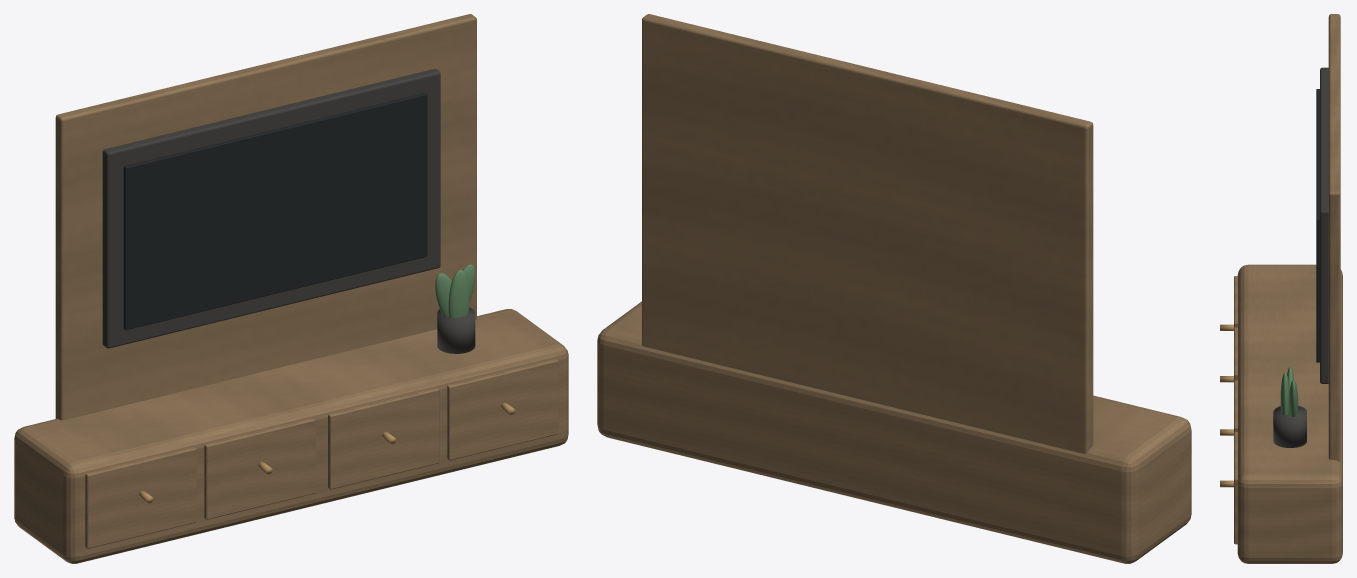
The model's file is tv-console.glb.
3 views of the same model, side by side, from view 1: azimuth 30°, elevation 25°; view 2: azimuth 150°, elevation 25°; view 3: azimuth 270°, elevation 25° (orthographic). The views are drawn at different scales.
Visible parts, largest first — view 1: ACCENT oak media panel, ACCENT television inset, CANONICAL case, ACCENT television, CANONICAL front 2, CANONICAL front 1, CANONICAL front 3, CANONICAL front 4, ACCENT planter, ACCENT leaf.002; view 2: ACCENT oak media panel, CANONICAL case; view 3: CANONICAL case, ACCENT oak media panel, ACCENT television, ACCENT planter, ACCENT television inset, CANONICAL front 4, ACCENT leaf.002, ACCENT leaf.001, CANONICAL front 2, CANONICAL front 1, CANONICAL front 3.
Part boxes in pixels (x1,y1,x2,y2): ACCENT oak media panel: [55, 14, 476, 420]; ACCENT television inset: [123, 93, 427, 330]; CANONICAL case: [14, 309, 568, 563]; ACCENT television: [102, 69, 440, 348]; CANONICAL front 2: [204, 418, 315, 519]; CANONICAL front 1: [85, 447, 196, 548]; CANONICAL front 3: [328, 388, 439, 489]; CANONICAL front 4: [447, 359, 558, 460]; ACCENT planter: [437, 307, 475, 353]; ACCENT leaf.002: [448, 270, 469, 317]; ACCENT oak media panel: [642, 14, 1093, 453]; CANONICAL case: [597, 301, 1191, 563]; CANONICAL case: [1237, 264, 1342, 563]; ACCENT oak media panel: [1328, 14, 1340, 462]; ACCENT television: [1320, 67, 1328, 383]; ACCENT planter: [1273, 406, 1306, 447]; ACCENT television inset: [1316, 89, 1319, 362]; CANONICAL front 4: [1234, 432, 1237, 544]; ACCENT leaf.002: [1280, 372, 1289, 415]; ACCENT leaf.001: [1289, 380, 1298, 417]; CANONICAL front 2: [1234, 327, 1237, 381]; CANONICAL front 1: [1234, 276, 1237, 327]; CANONICAL front 3: [1234, 380, 1237, 432].
Size of the model in its own units: 2.2 by 1.76 by 0.525.
5 materials, 1 textured.
